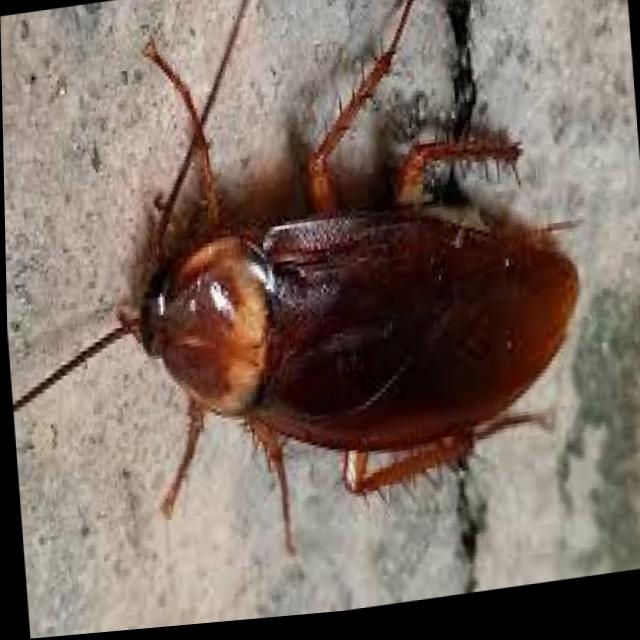Cockroach: (0, 0, 604, 603)
